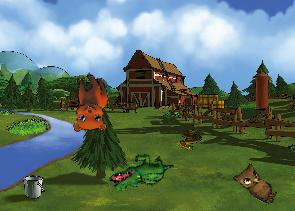bear: (62, 71, 114, 136)
crocodile: (106, 140, 175, 206)
owl: (230, 159, 284, 205)
